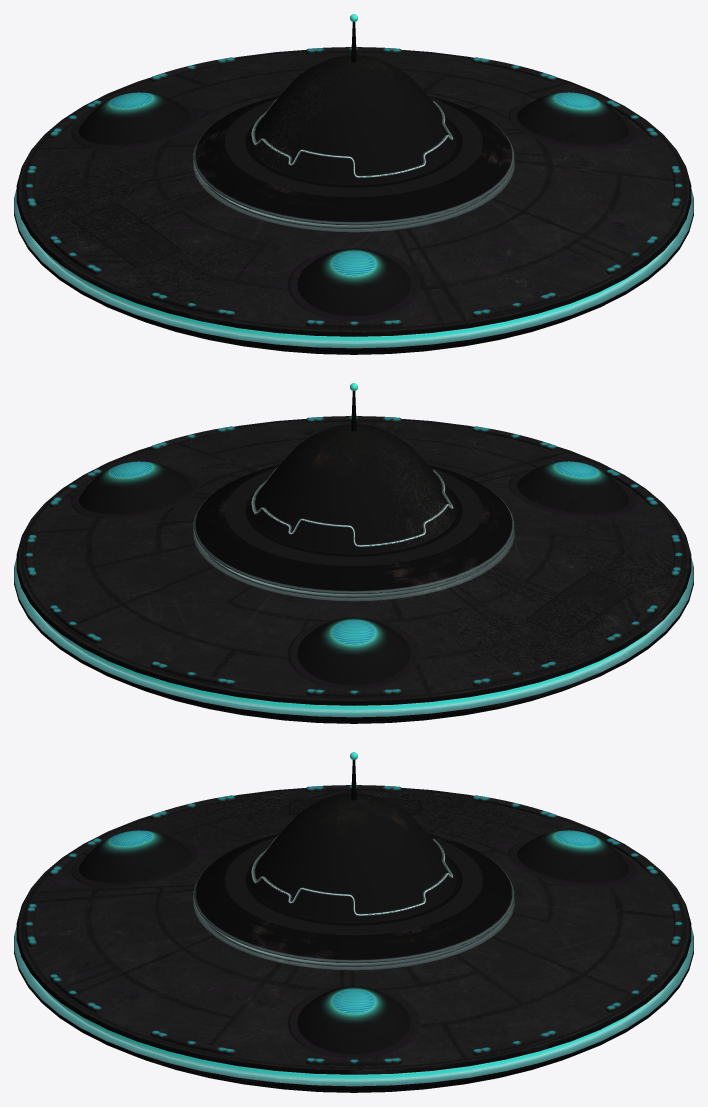
The model's file is ufo.glb.
The picture shows the model from 3 angles, top to bottom: view 1: azimuth 30°, elevation 25°; view 2: azimuth 150°, elevation 25°; view 3: azimuth 270°, elevation 25°; orthographic projection.
Parts seen in each view (by area): view 1: node_id30; view 2: node_id30; view 3: node_id30.
Part boxes in pixels (left/top/right/bottom): node_id30: left=14, top=14, right=693, bottom=354; node_id30: left=14, top=383, right=693, bottom=723; node_id30: left=14, top=752, right=693, bottom=1092.
Size of the model in its own units: 0.00512 by 0.00211 by 0.00511.
Materials: 1 (1 with a texture image).
